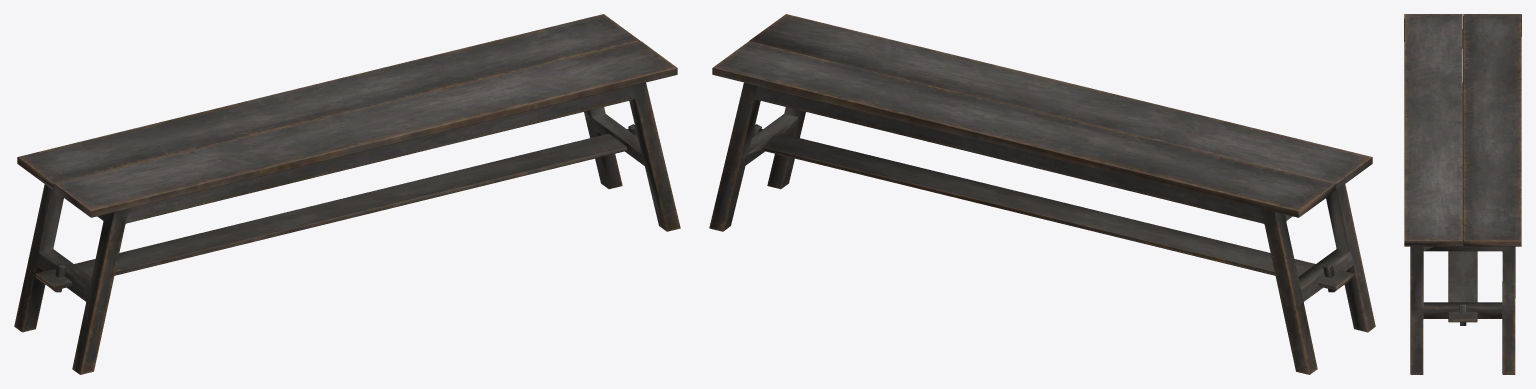
File: bench.lo.glb
3 views of the same model, side by side, from view 1: azimuth 30°, elevation 25°; view 2: azimuth 150°, elevation 25°; view 3: azimuth 270°, elevation 25° (orthographic). The views are drawn at different scales.
Visible parts, largest first — view 1: wooden_bench; view 2: wooden_bench; view 3: wooden_bench.
Boxes of the visible parts, x1,y1,x2,y2 form: wooden_bench: (14,14,680,374); wooden_bench: (709,14,1375,374); wooden_bench: (1404,14,1521,374).
Bounding box in the file's own units: 3.6 × 0.9406 × 0.7629.
1 material, 1 textured.
